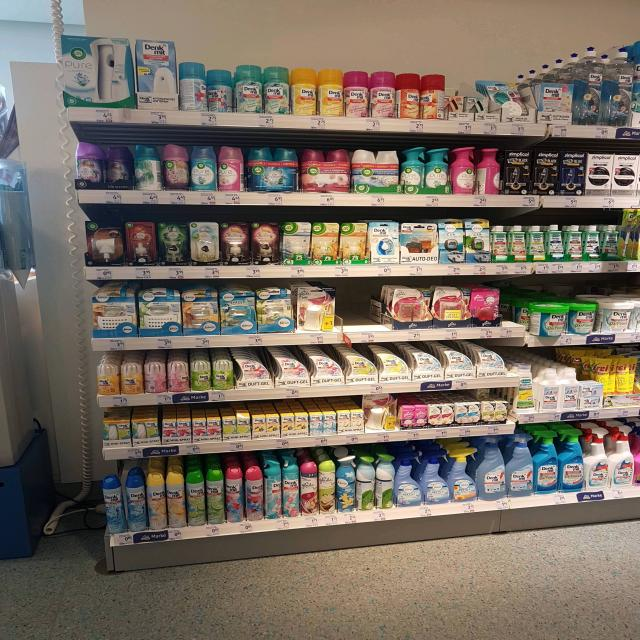void: (339, 280, 391, 346), (504, 278, 529, 342)
